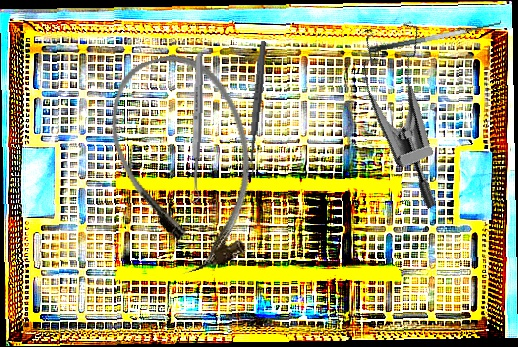Cannula: (93, 40, 279, 284)
Spatula Surgical: (366, 12, 503, 54)
Speculum: (325, 5, 505, 211)
Surgical Spoon: (245, 40, 268, 175), (189, 51, 205, 204)
